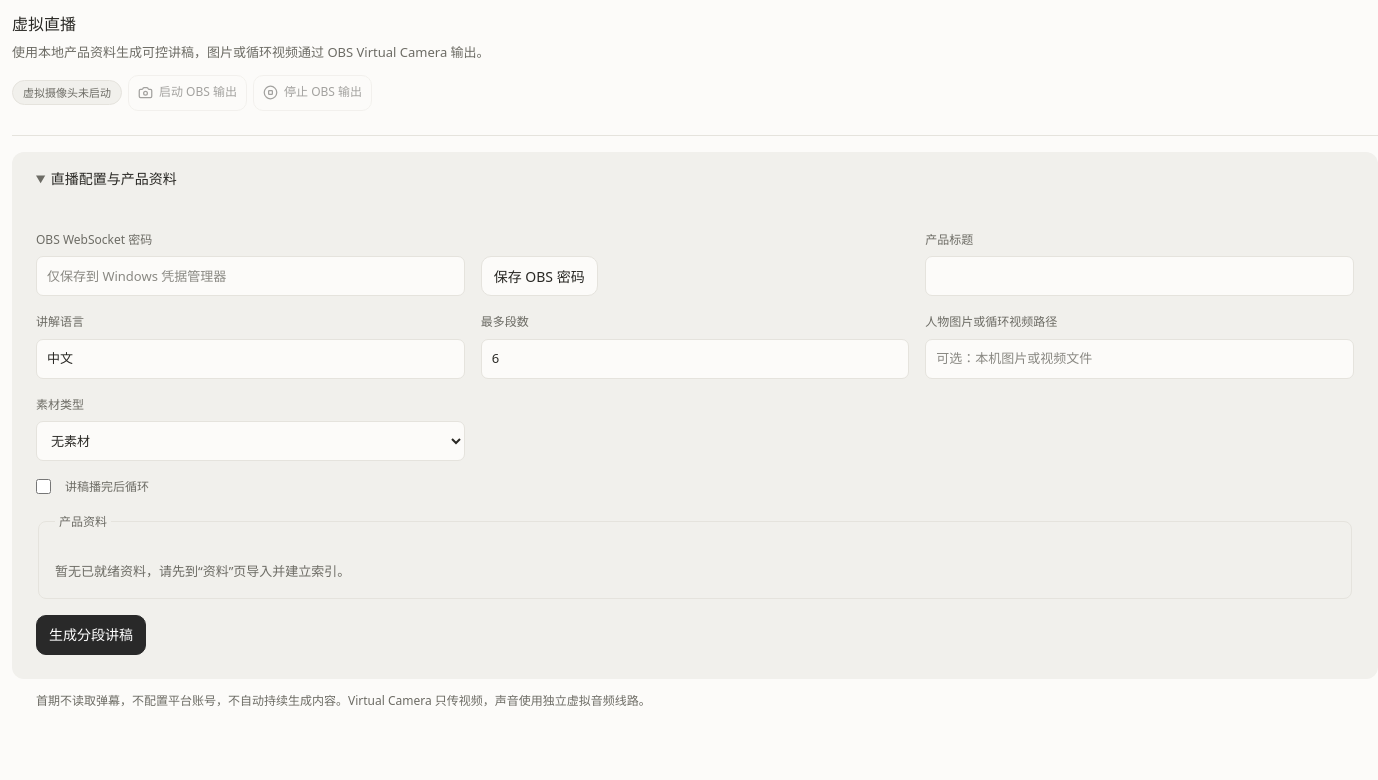
Scenario: LivestreamStudio › shows the backend error code and message when generation fails
Type "产品 B" into the field labelled "产品标题" at (1140, 276), box [925, 256, 1354, 296]
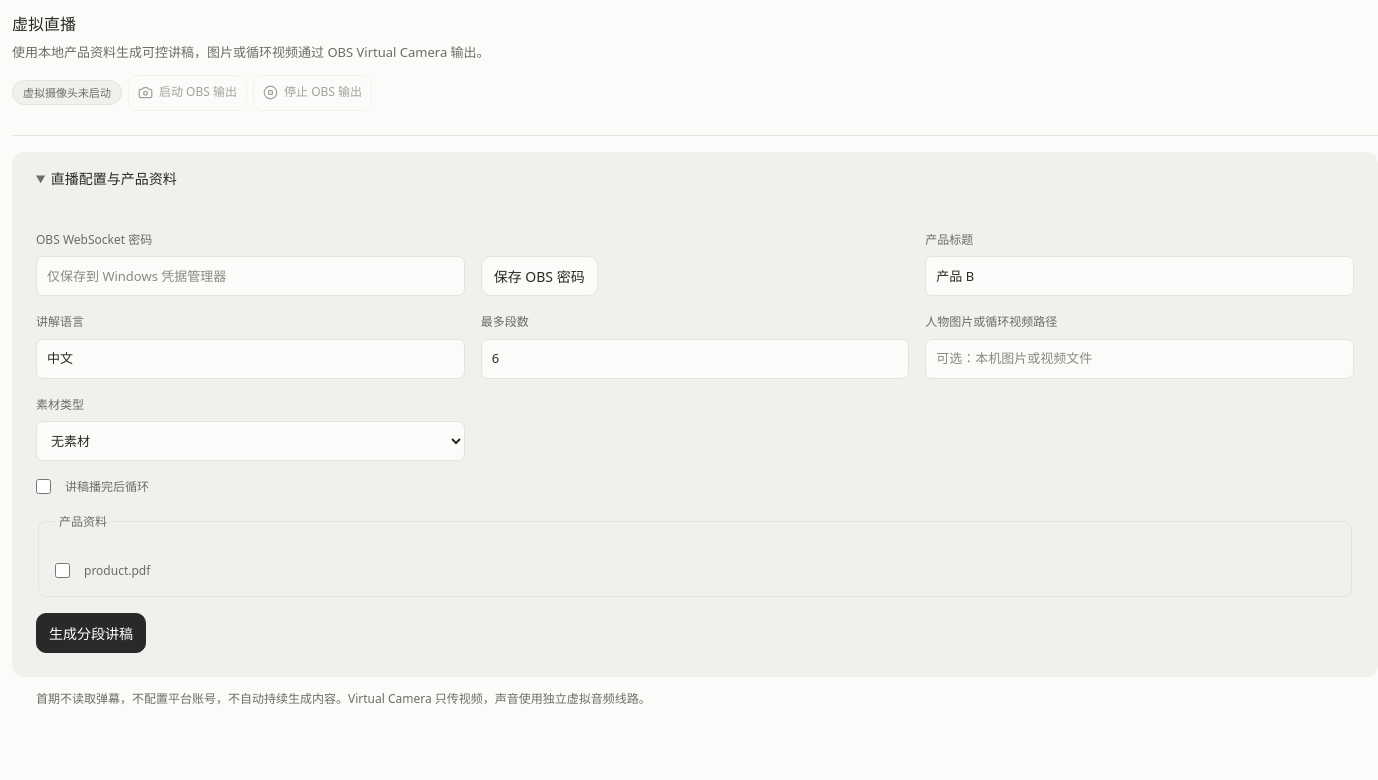
Click the checkbox labelled "product.pdf" at (62, 571), box [55, 563, 70, 578]
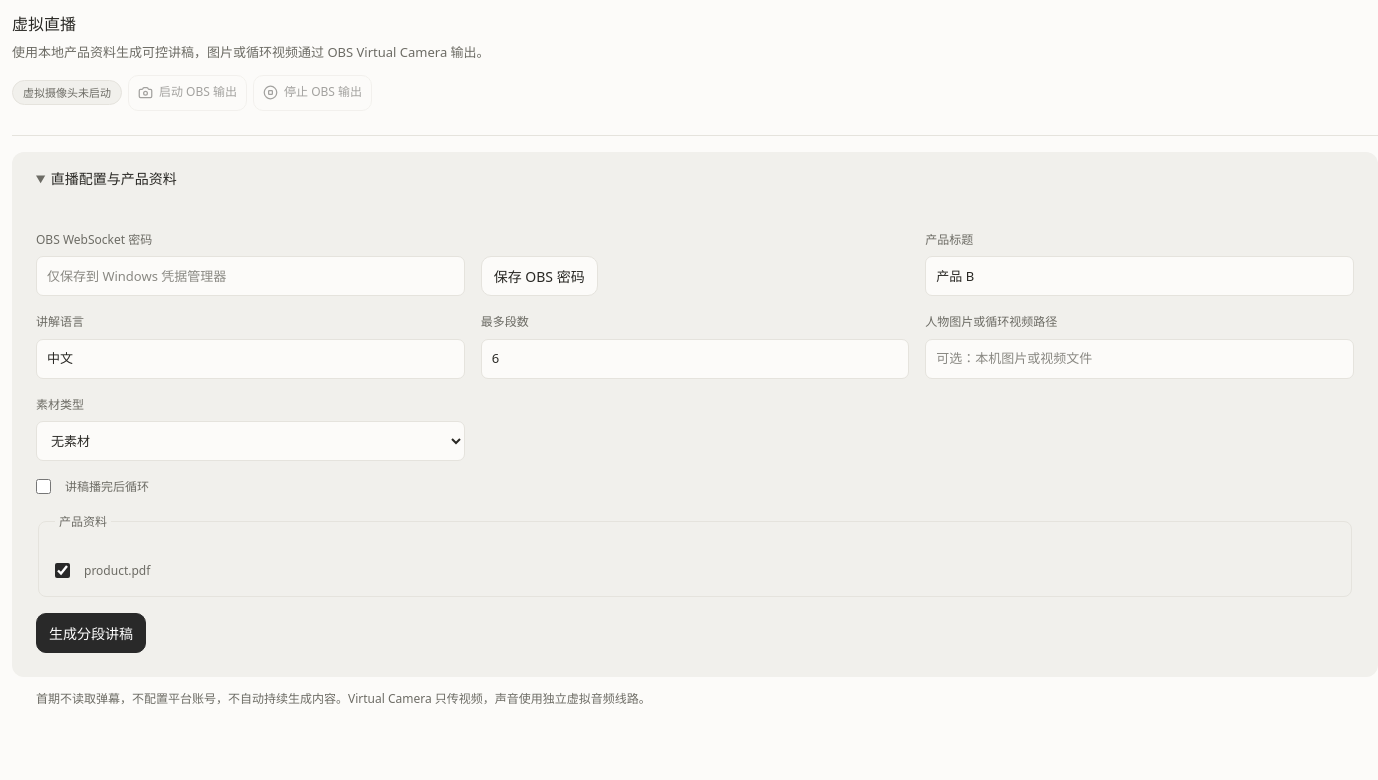
Click the button "生成分段讲稿" at (91, 633), box [36, 613, 146, 653]
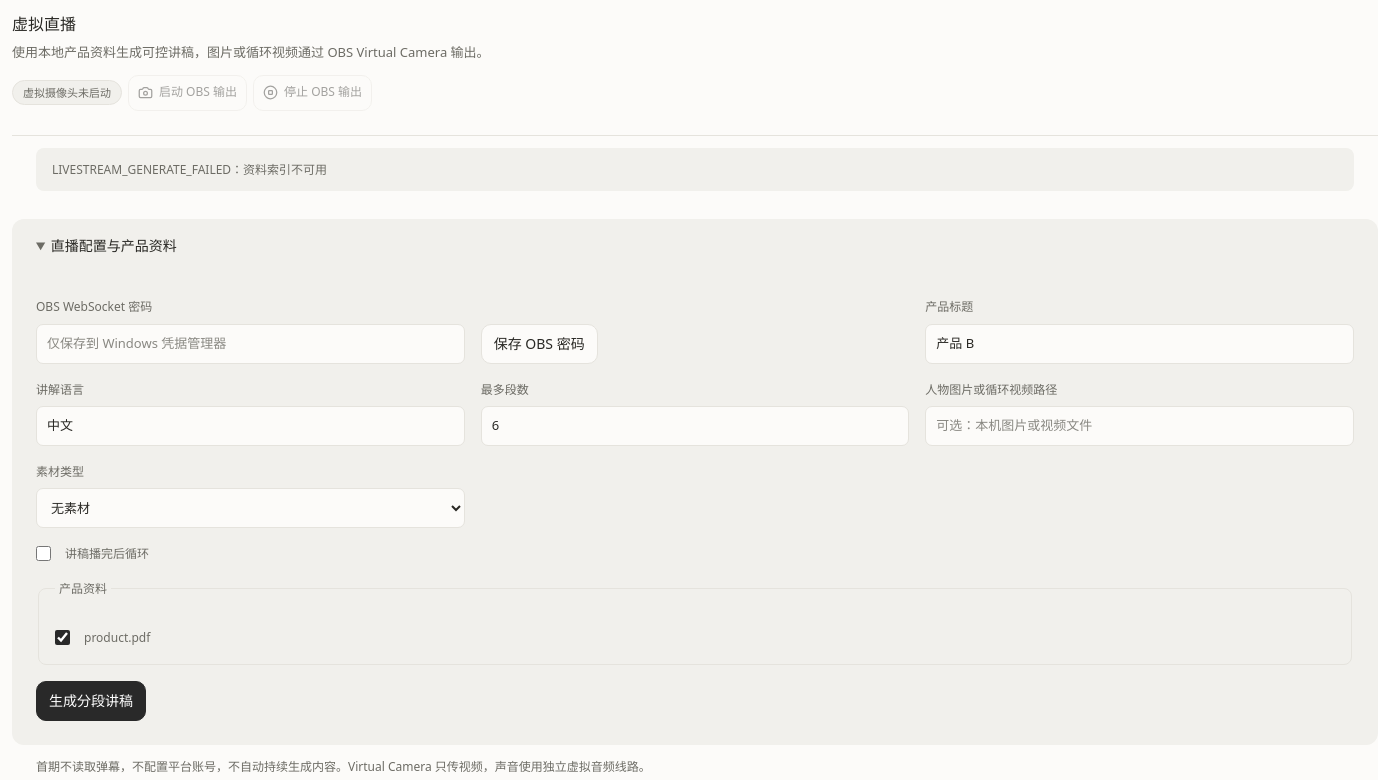
Expected: the message reads "LIVESTREAM_GENERATE_FAILED：资料索引不可用", [52, 161, 327, 178]
